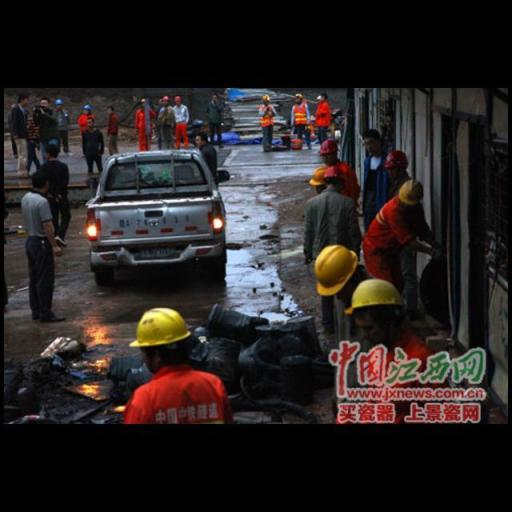Person: (98, 279, 257, 433), (340, 266, 452, 402), (308, 162, 359, 349), (374, 175, 444, 276), (15, 175, 64, 318), (248, 83, 281, 166), (80, 104, 112, 182), (284, 90, 317, 148), (164, 90, 196, 146), (311, 88, 344, 142), (134, 92, 158, 150)
helmet: (124, 301, 198, 355), (338, 263, 410, 315), (310, 240, 368, 300), (393, 174, 433, 209), (304, 160, 341, 190), (382, 144, 414, 178), (316, 134, 350, 161), (324, 162, 352, 189), (357, 124, 390, 146), (282, 89, 312, 104), (259, 89, 277, 113), (170, 88, 188, 110), (162, 89, 177, 106), (50, 95, 66, 110), (79, 98, 93, 112)
vest: (338, 324, 468, 427), (114, 360, 243, 428), (361, 186, 436, 292), (311, 153, 359, 214), (166, 99, 198, 151), (131, 102, 157, 154), (307, 98, 338, 136), (288, 103, 315, 143), (47, 102, 71, 140), (255, 92, 276, 130), (76, 108, 100, 136)
